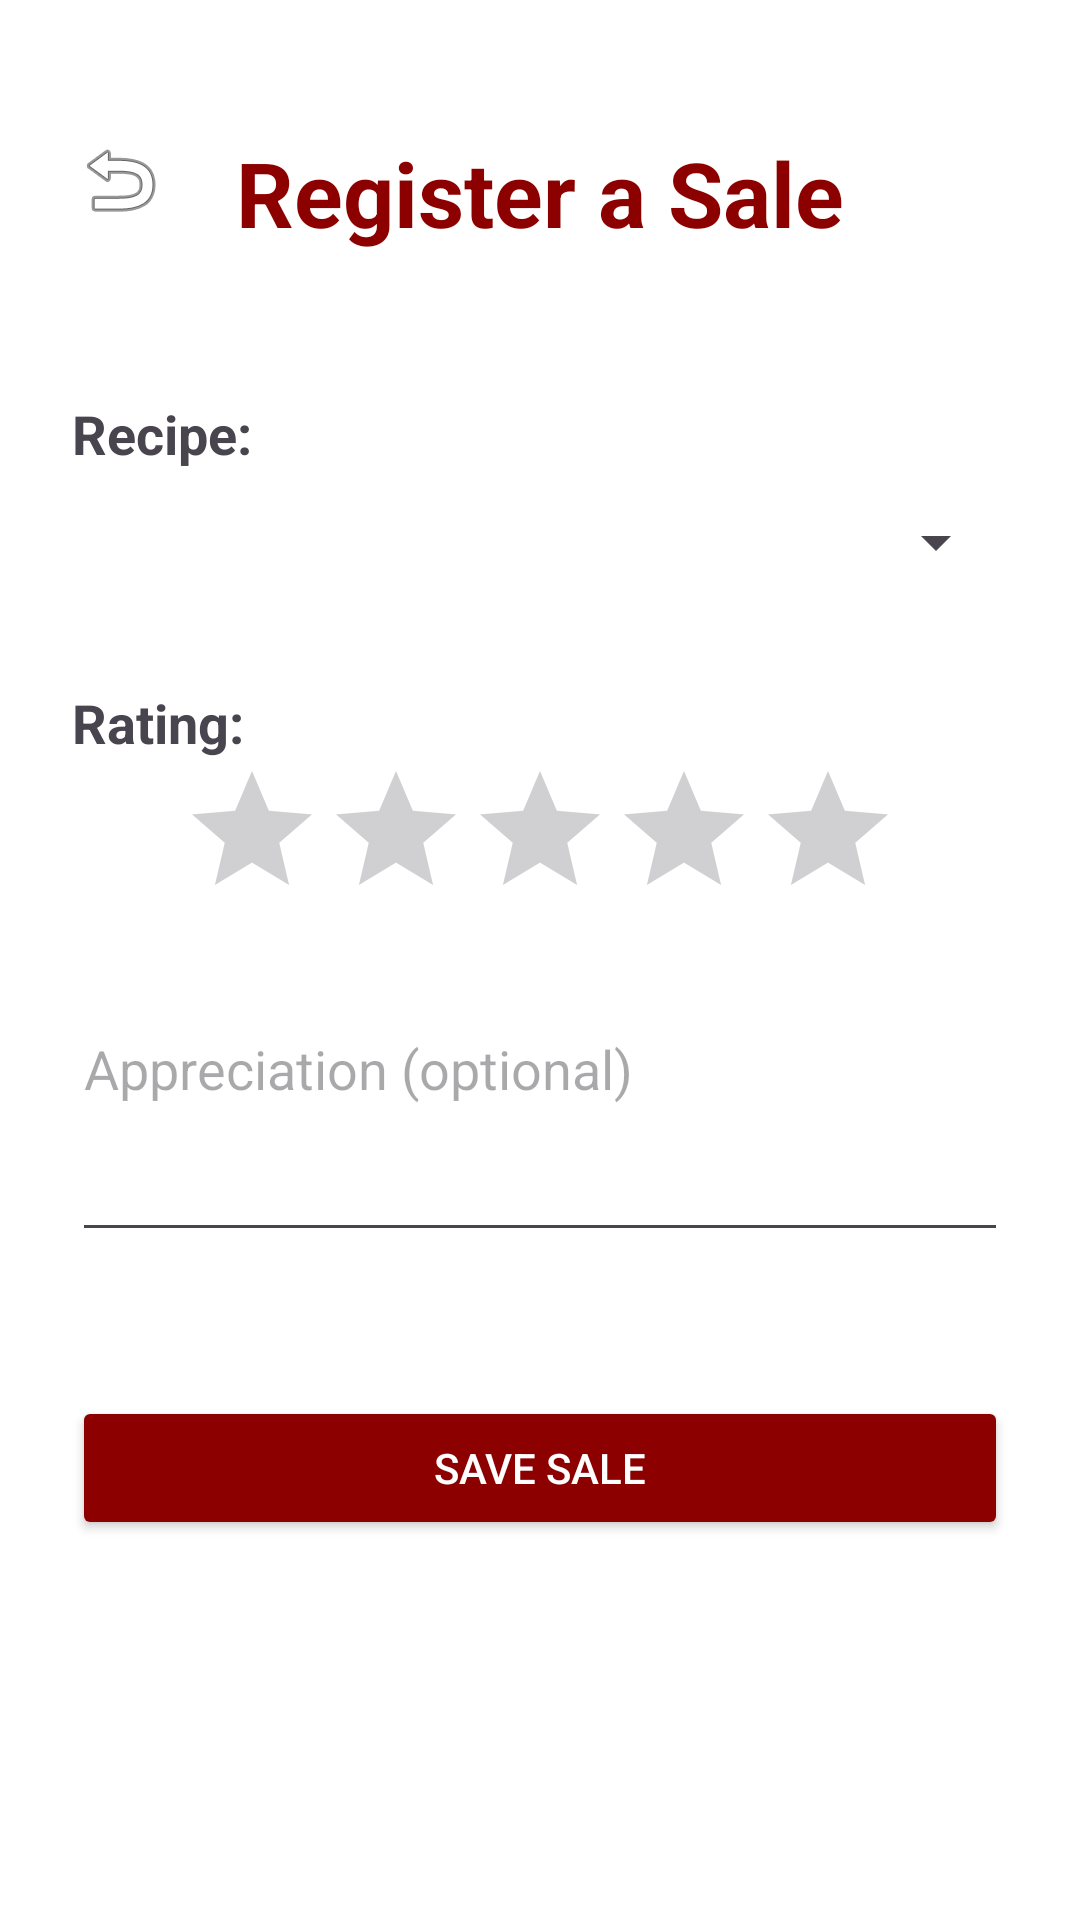

Screen size 1080*1920. Icon name, then its box in pixels as (x1, y1, x2, y2):
Back: (87, 149, 156, 212)
